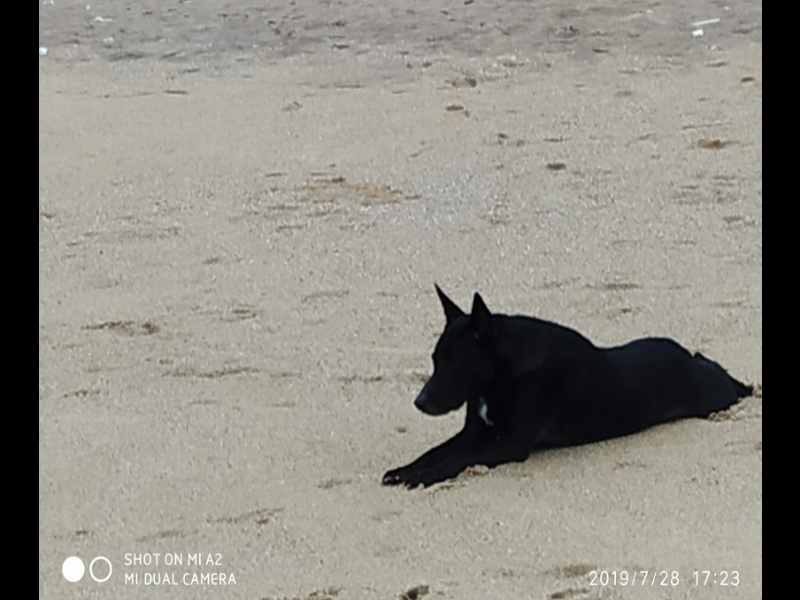dog: (374, 280, 750, 502)
